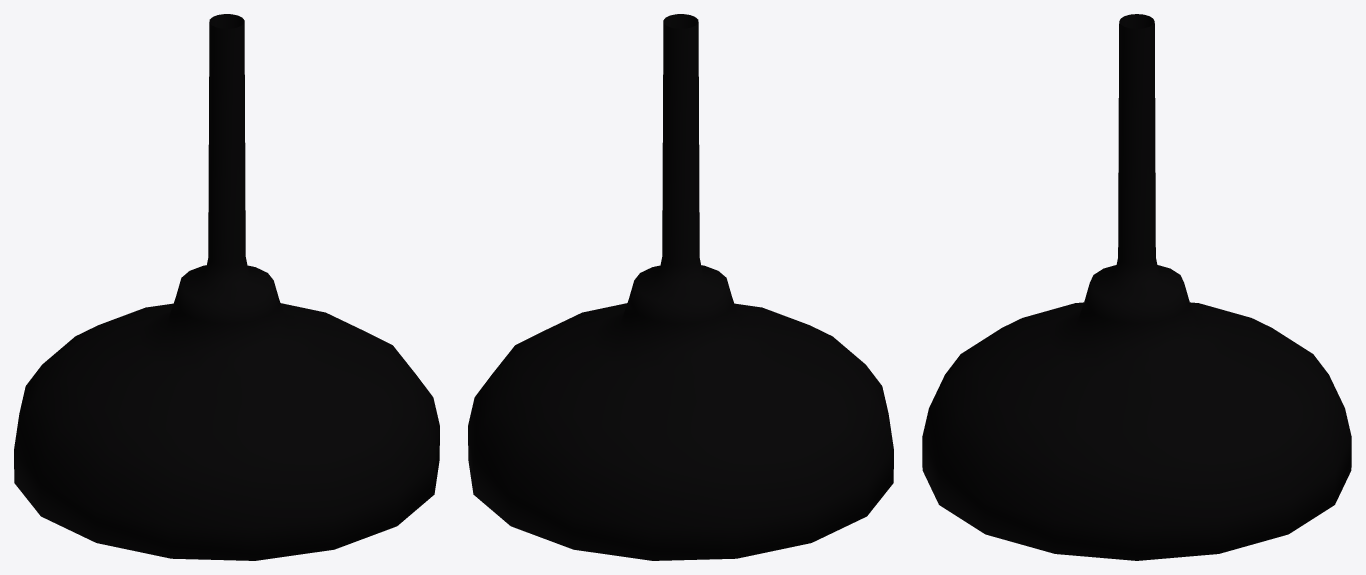
The model's file is Lamp_50s.glb.
The picture shows the model from 3 angles, left to right: view 1: azimuth 30°, elevation 25°; view 2: azimuth 150°, elevation 25°; view 3: azimuth 270°, elevation 25°; orthographic projection.
Visible parts, largest first — view 1: Lamp_50s; view 2: Lamp_50s; view 3: Lamp_50s.
Boxes of the visible parts, <box> form: Lamp_50s: <box>14,14,439,560</box>; Lamp_50s: <box>468,14,893,560</box>; Lamp_50s: <box>922,14,1351,560</box>.
Size of the model in its own units: 0.2858 by 0.3751 by 0.2858.
Materials: 2 (1 with a texture image).
